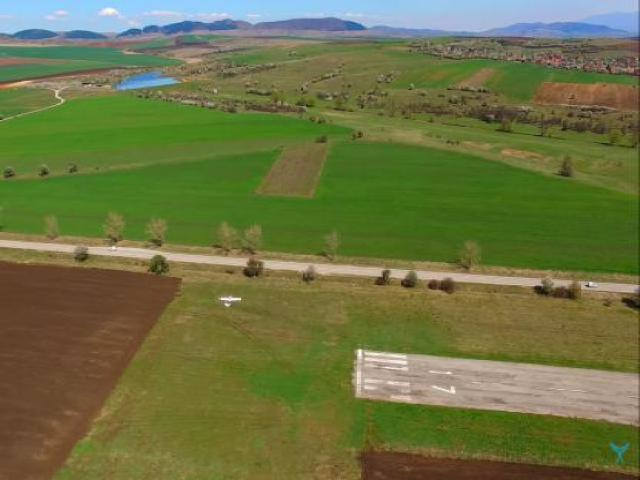uav: (214, 288, 246, 313)
